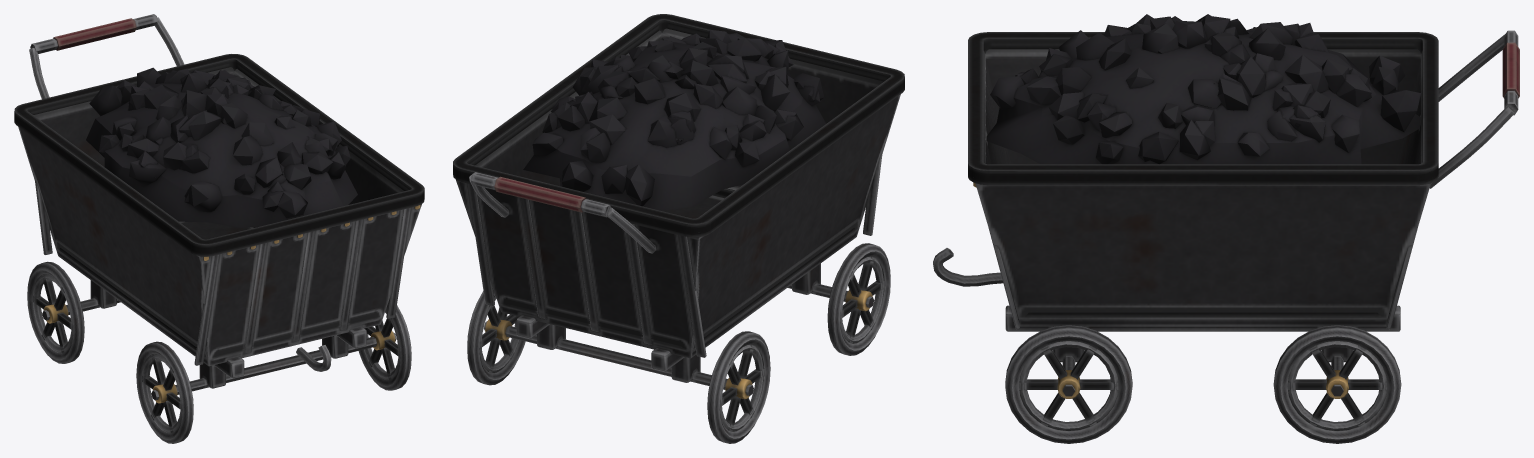
Rendered from CoalCart.fbx.
3 views of the same model, side by side, from view 1: azimuth 30°, elevation 25°; view 2: azimuth 150°, elevation 25°; view 3: azimuth 270°, elevation 25° (orthographic). The views are drawn at different scales.
Visible parts, largest first — view 1: CoalCart; view 2: CoalCart; view 3: CoalCart.
Boxes of the visible parts, left/top/right/bottom form: CoalCart: left=14, top=14, right=424, bottom=443; CoalCart: left=453, top=14, right=904, bottom=443; CoalCart: left=933, top=14, right=1519, bottom=443.
Bounding box in the file's own units: 216 × 245 × 372.
